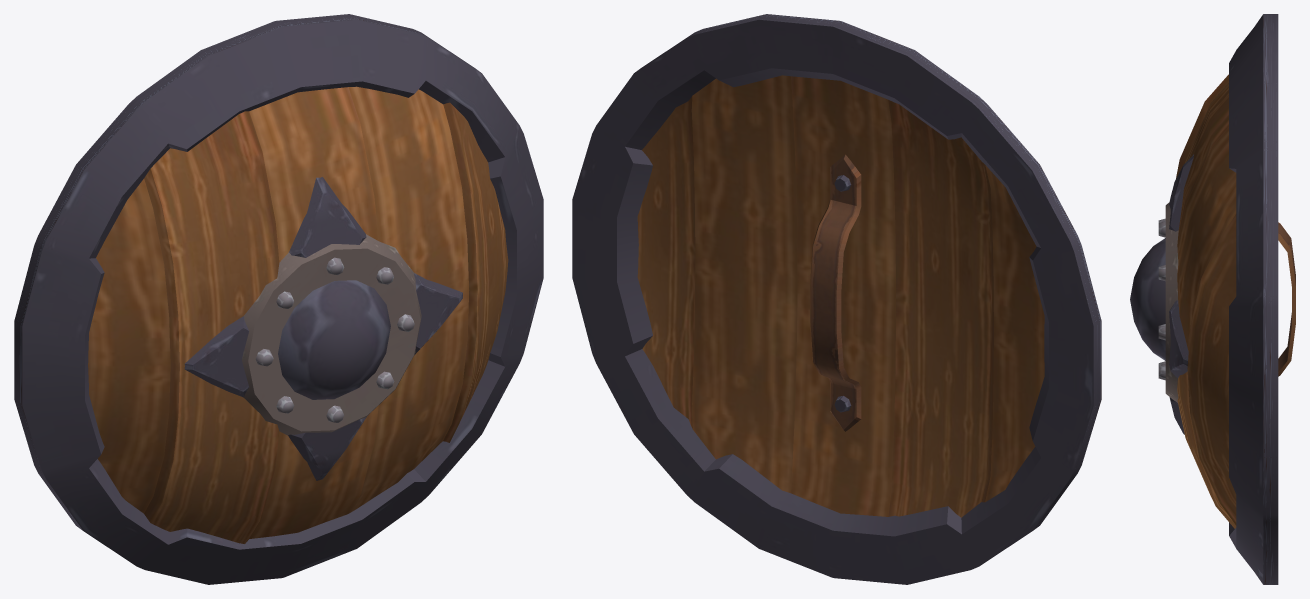
File: Shield_Wooden.gltf
The picture shows the model from 3 angles, left to right: view 1: azimuth 30°, elevation 25°; view 2: azimuth 150°, elevation 25°; view 3: azimuth 270°, elevation 25°; orthographic projection. The views are drawn at different scales.
Parts seen in each view (by area): view 1: Shield_Wooden; view 2: Shield_Wooden; view 3: Shield_Wooden.
Boxes of the visible parts, x1,y1,x2,y2 form: Shield_Wooden: [14, 14, 543, 584]; Shield_Wooden: [572, 14, 1101, 584]; Shield_Wooden: [1130, 14, 1295, 584].
Bounding box in the file's own units: 0.6146 × 0.6209 × 0.1788.
Materials: 3 (3 with a texture image).
